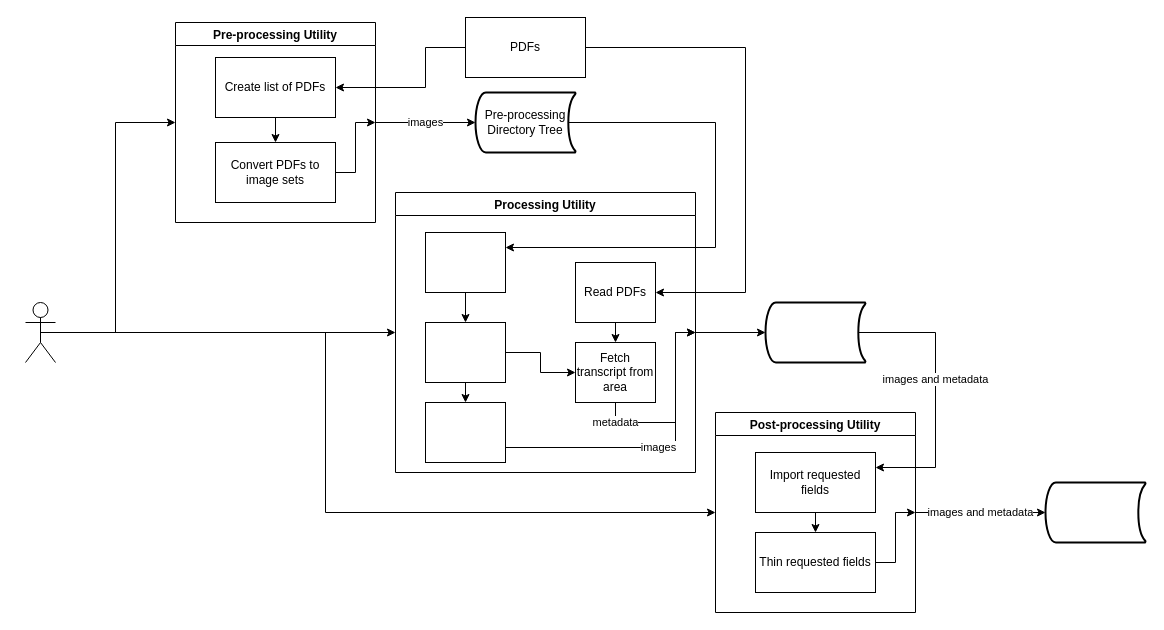
Image size: 1164x630. Some labels were removed from this diagram. Each missing label, with the centre of its shape:
"Get table cell contents" goes at pixel 465 432.
"Get table cell locations" goes at pixel 465 352.
"Import images" goes at pixel 465 262.
"Operator" goes at pixel 40 332.
"Post-processing Directory Tree" goes at pixel 1095 512.
"Processing Directory Tree" goes at pixel 815 332.
